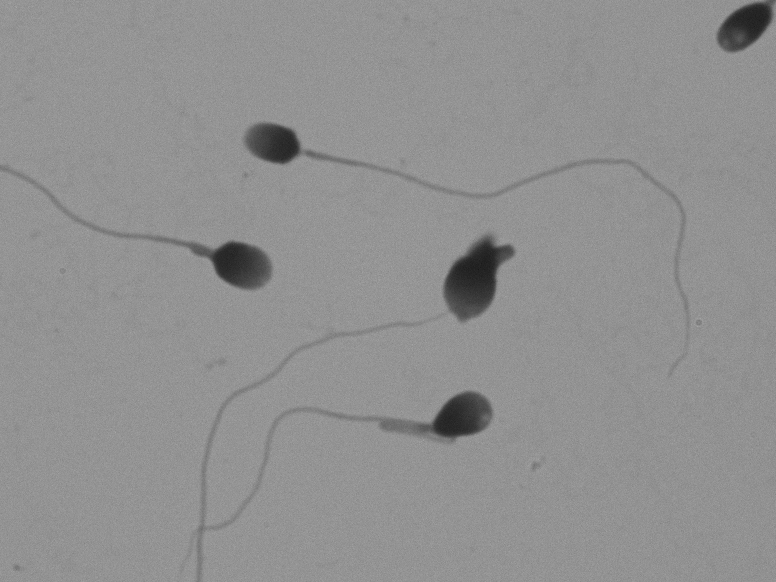Abnormal: (343, 206, 614, 347), (100, 170, 300, 313), (286, 384, 580, 480)
Normal: (226, 72, 684, 229)
